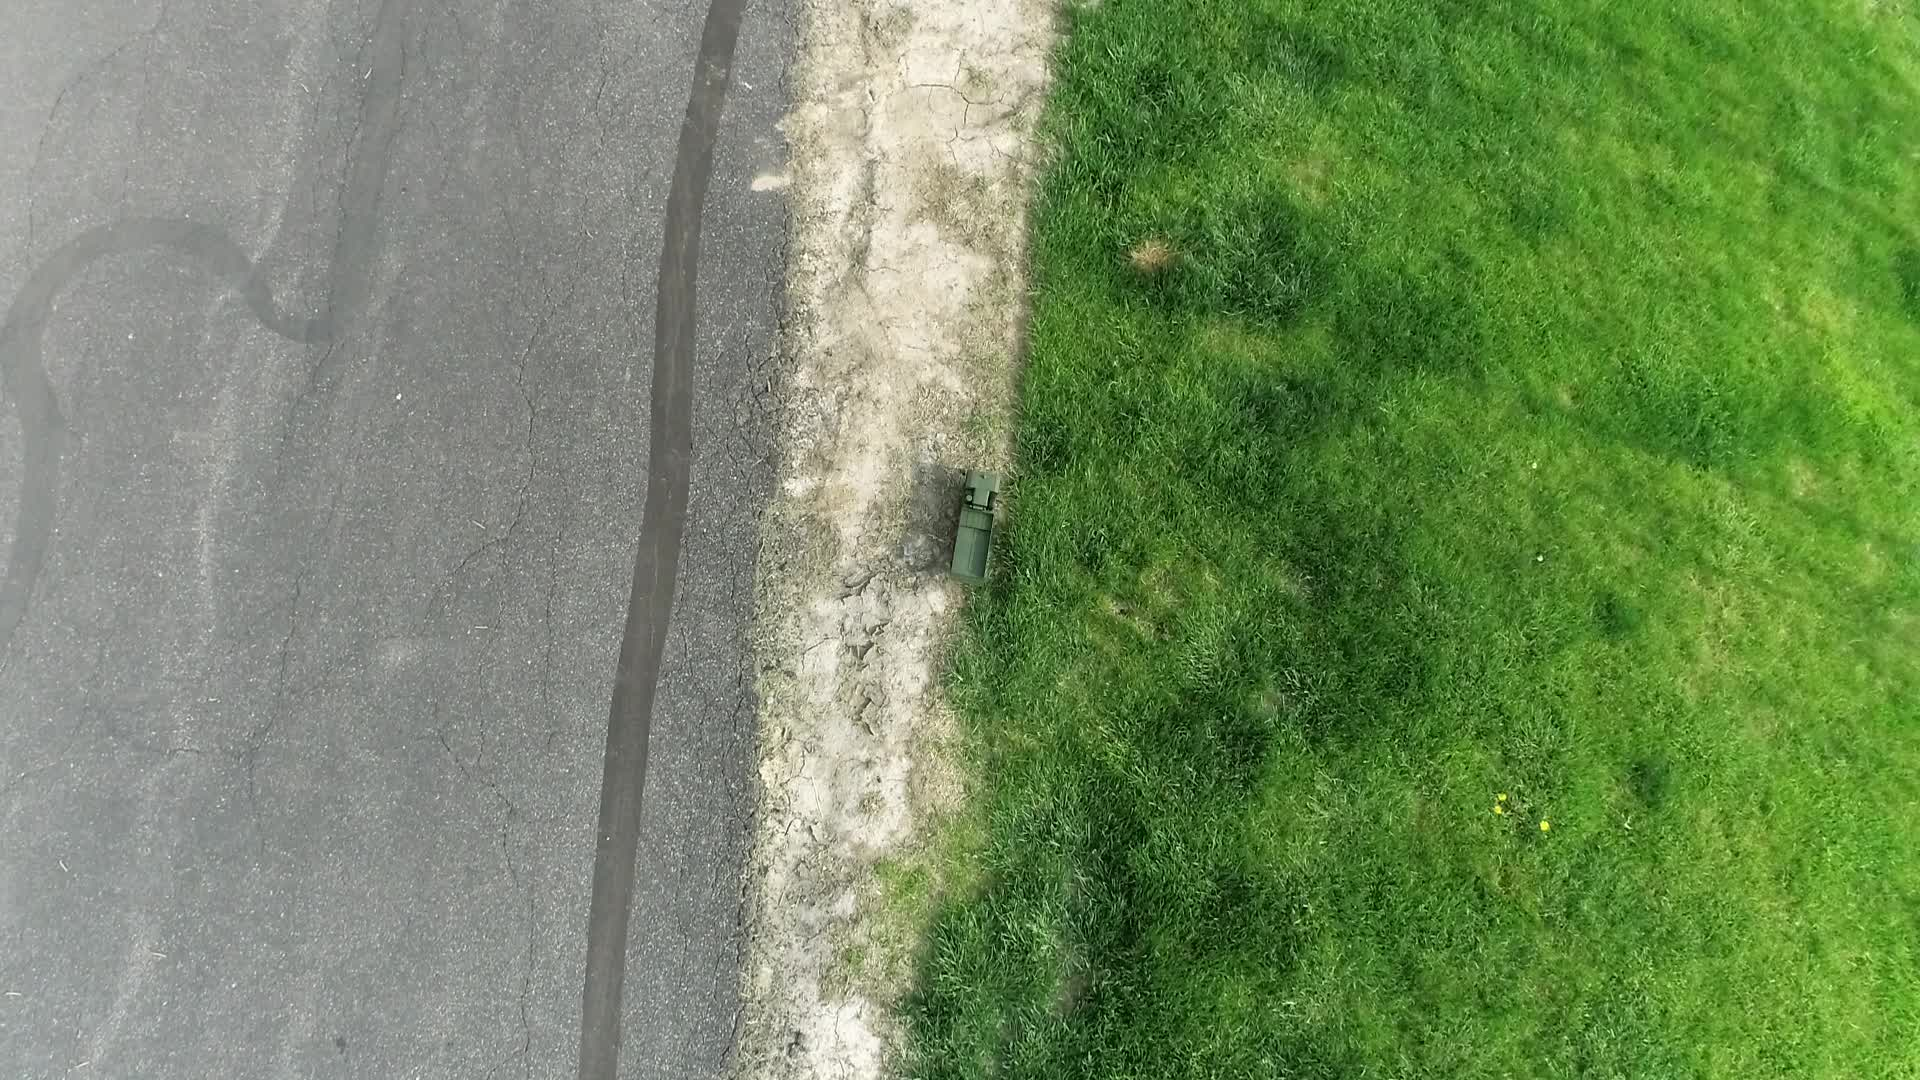transporter9: (944, 465, 1002, 585)
